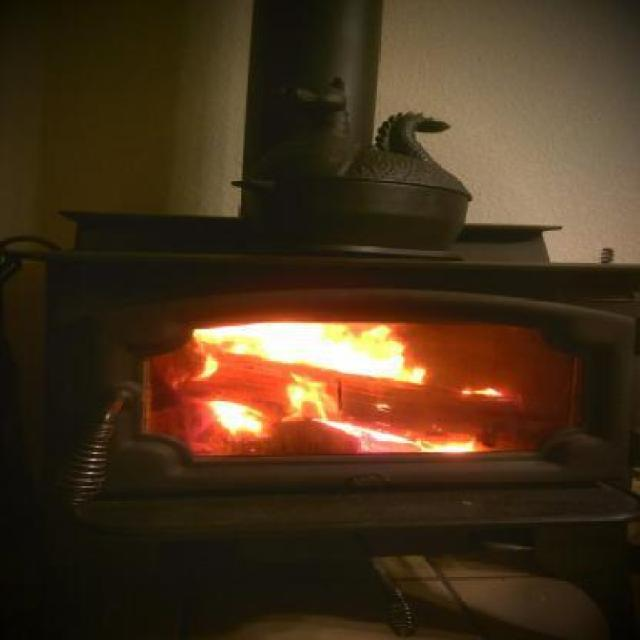Fire: (193, 320, 429, 385), (285, 374, 354, 434), (362, 428, 494, 456), (205, 395, 263, 435), (460, 377, 518, 405), (191, 348, 219, 382)
